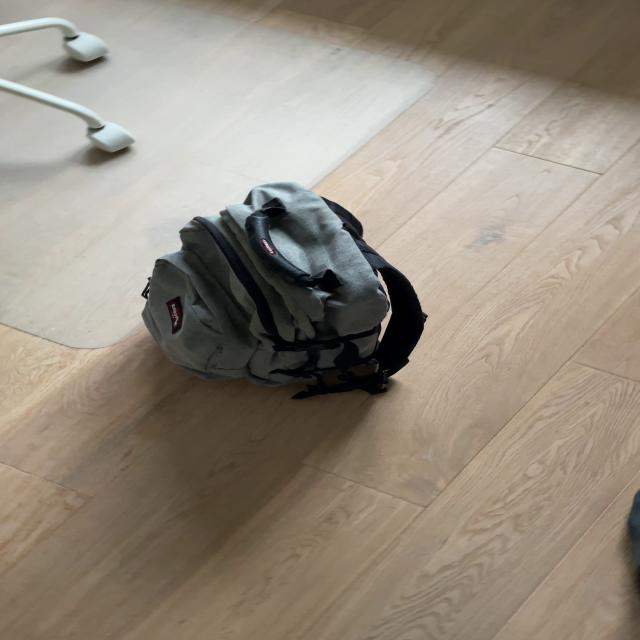backpack: (126, 178, 438, 407)
